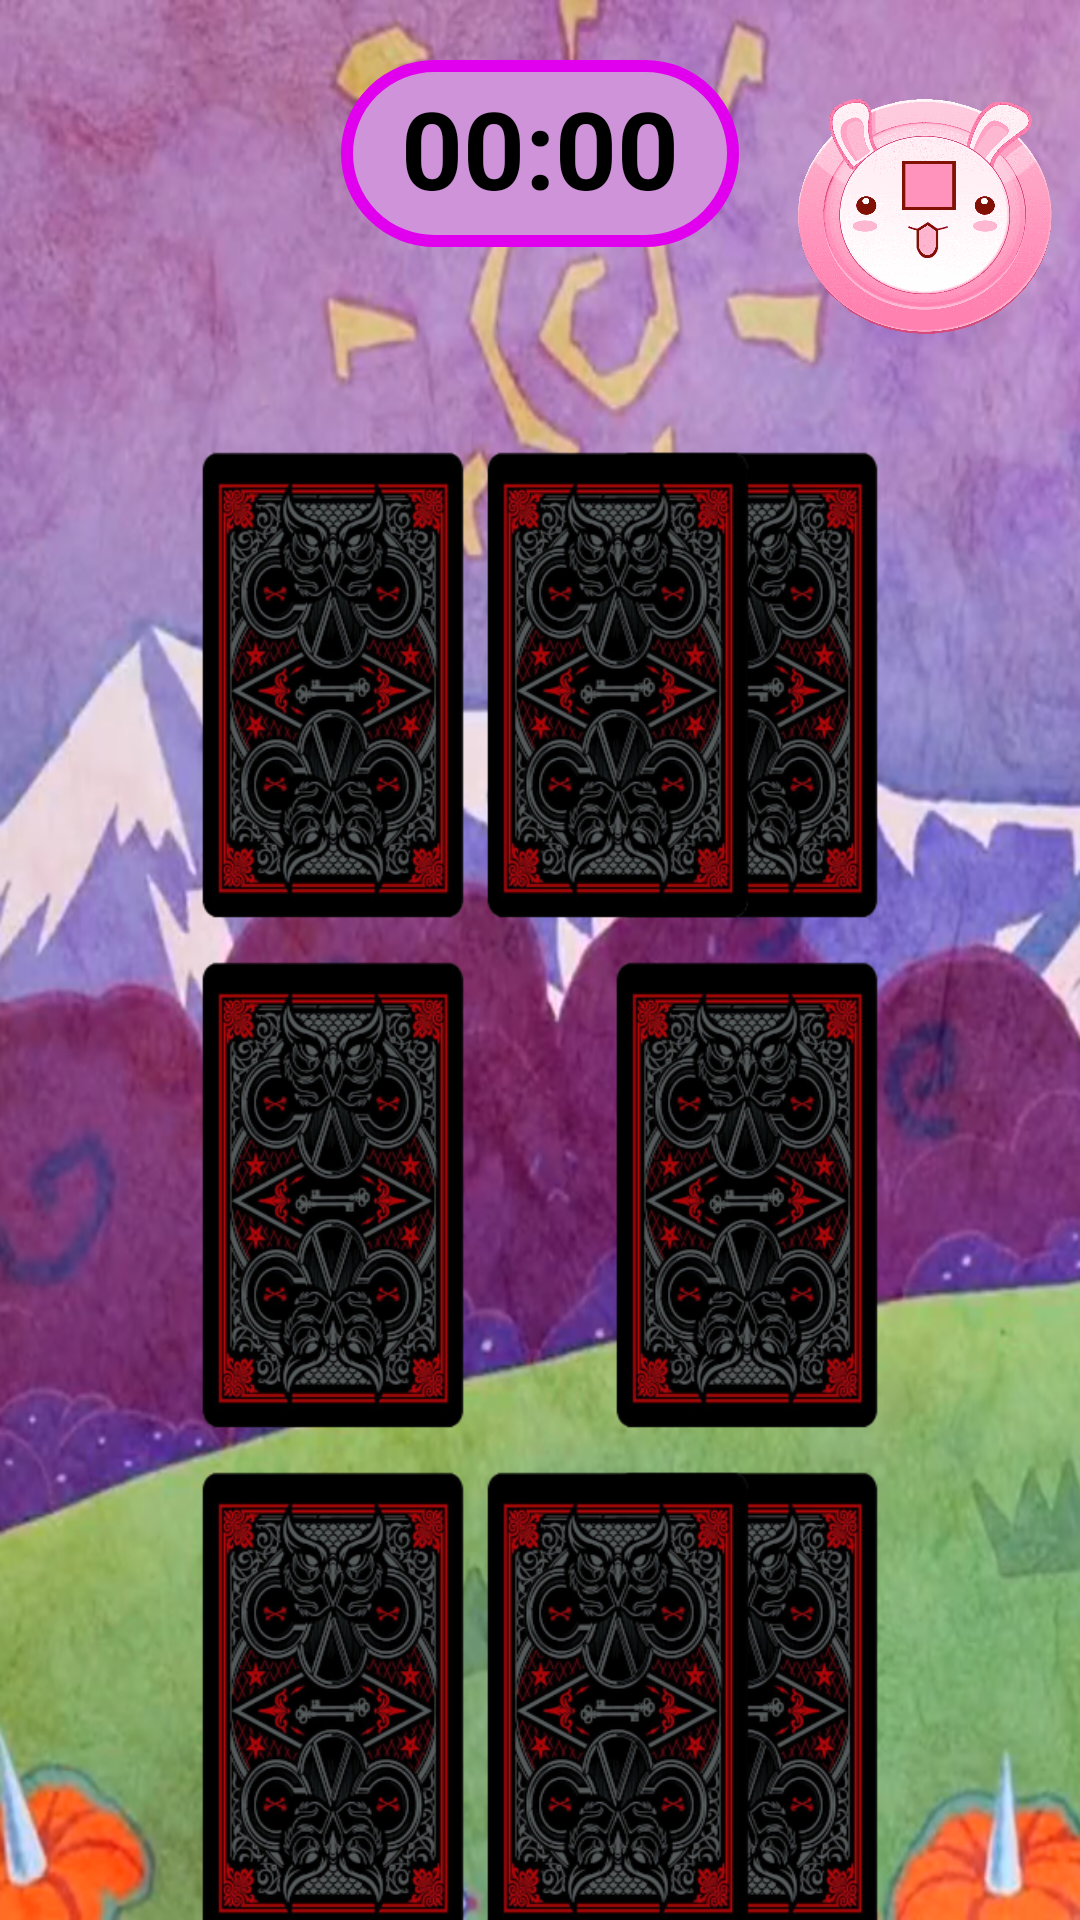

Locate icon controls on the screen. Image size 1080 x 1920, boxes as (left=x1, top=y1, right=x2, bottom=y2).
Stops the chronometer: (left=775, top=99, right=1069, bottom=360)
